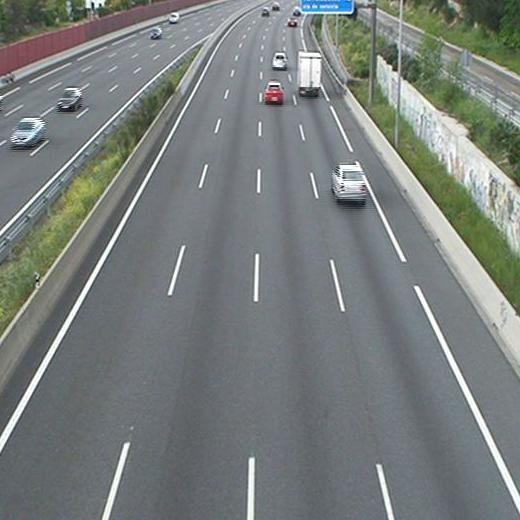car: (331, 163, 366, 204), (264, 82, 285, 106), (272, 52, 288, 71)
small-truck: (295, 51, 321, 97)
